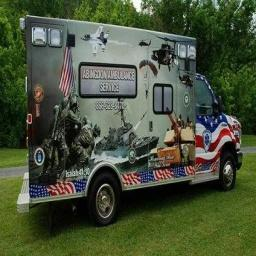Ambulance: (17, 16, 241, 224)
